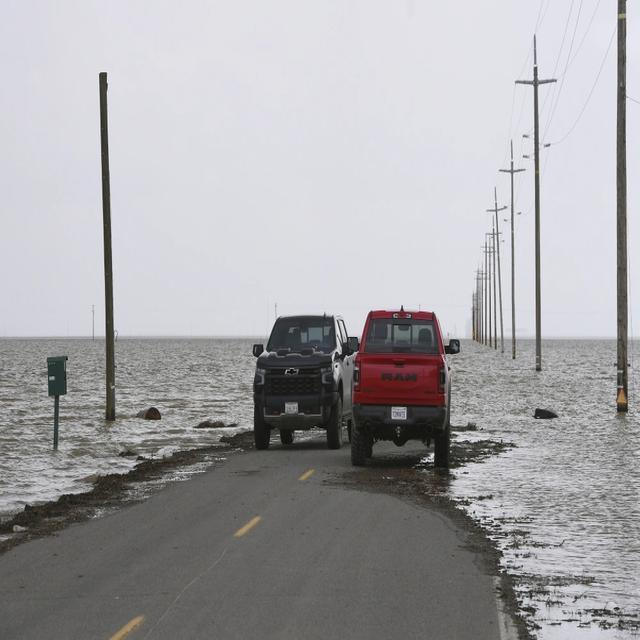Car-RiskLevel1: (352, 294, 473, 473), (248, 299, 360, 463)
